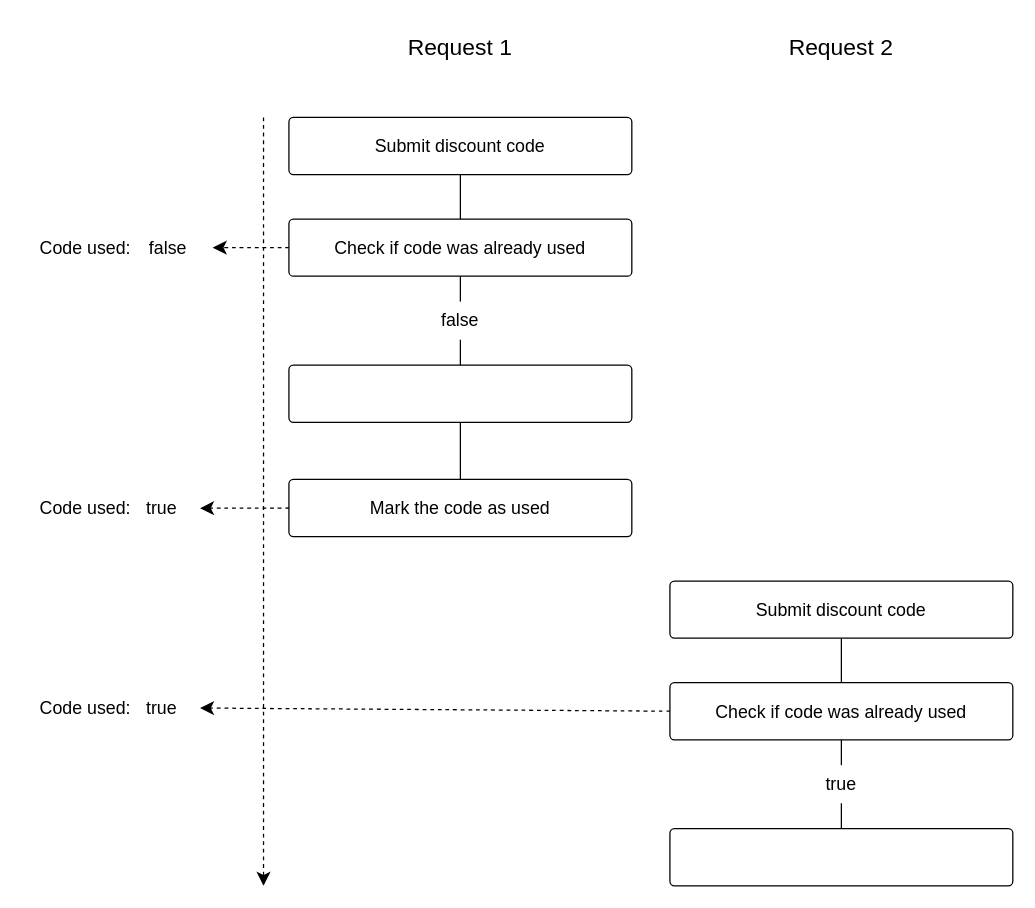
The diagram is 1035 pixels wide and 908 high, and some of its shapes have lost their labels. The centre of each missing label's shape, as x and y in pixels:
"Apply discount" belongs at pixel 460 393.
"Reject: invalid code" belongs at pixel 841 856.
